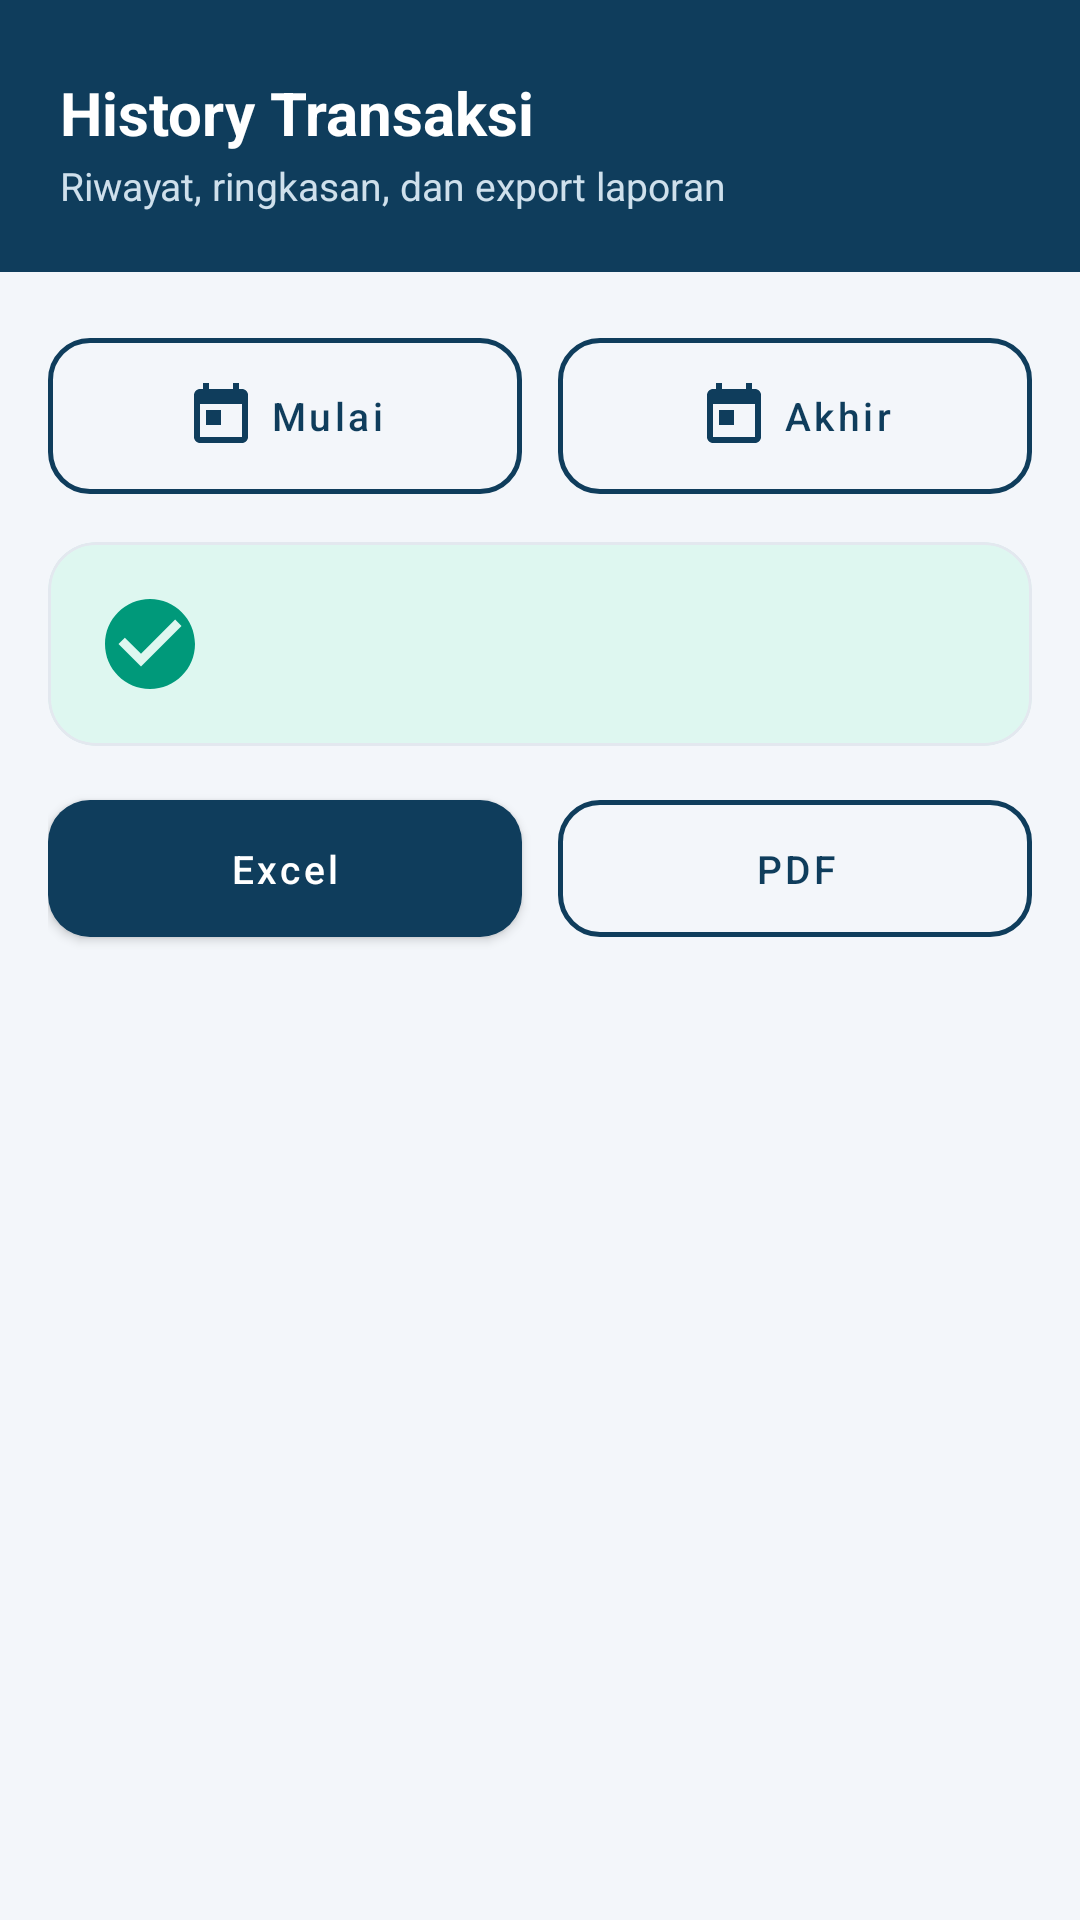

Icon bounding boxes for this 1080w x 1920h phone screenshot, format bbox(x1, y1, x2, y2):
check circle: bbox(105, 599, 195, 689)
